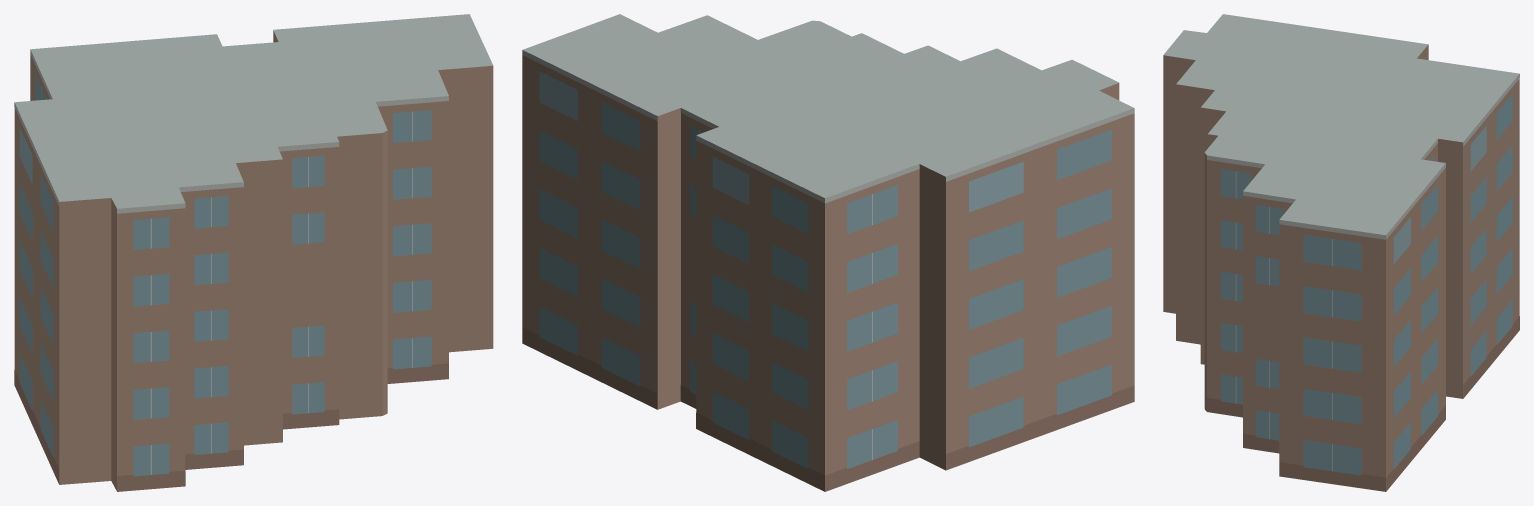
Rendered from survey-upis-32949637.glb.
3 renders of one model, left to right at view 1: azimuth 30°, elevation 25°; view 2: azimuth 150°, elevation 25°; view 3: azimuth 270°, elevation 25°, orthographic. The views are drawn at different scales.
Parts seen in each view (by area): view 1: survey-upis-32949637.tmp; view 2: survey-upis-32949637.tmp; view 3: survey-upis-32949637.tmp.
Part boxes in pixels (x1=…): survey-upis-32949637.tmp: x1=14, y1=14, x2=493, y2=491; survey-upis-32949637.tmp: x1=522, y1=14, x2=1134, y2=491; survey-upis-32949637.tmp: x1=1163, y1=14, x2=1519, y2=491.
Bounding box in the file's own units: 26 × 14.05 × 17.71.
